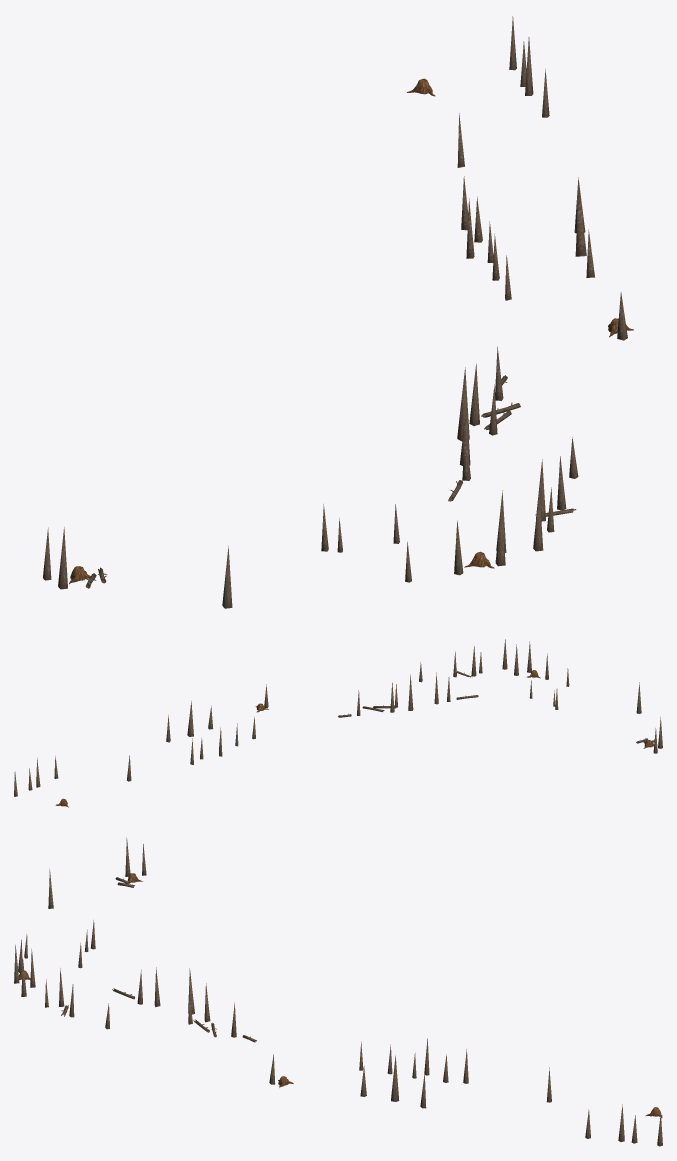
File: wujian17_1.fbx
3 views of the same model, one above another, from view 1: azimuth 30°, elevation 25°; view 2: azimuth 150°, elevation 25°; view 3: azimuth 270°, elevation 25° (orthographic). The views are drawn at different scales.
Visible parts, largest first — view 1: wujian17_1; view 2: wujian17_1; view 3: wujian17_1.
Boxes of the visible parts, <box> form: wujian17_1: <box>43,16,633,608</box>; wujian17_1: <box>14,639,662,807</box>; wujian17_1: <box>14,837,662,1146</box>.
Bounding box in the file's own units: 9942 × 833 × 10028.
